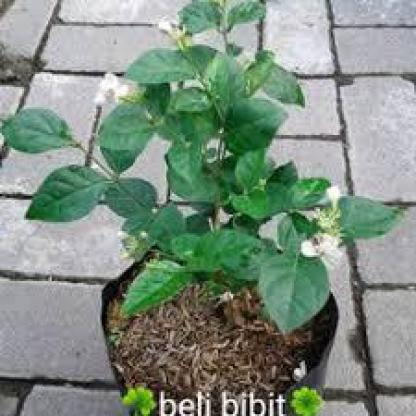Melati: (287, 171, 358, 280), (66, 55, 106, 116)
